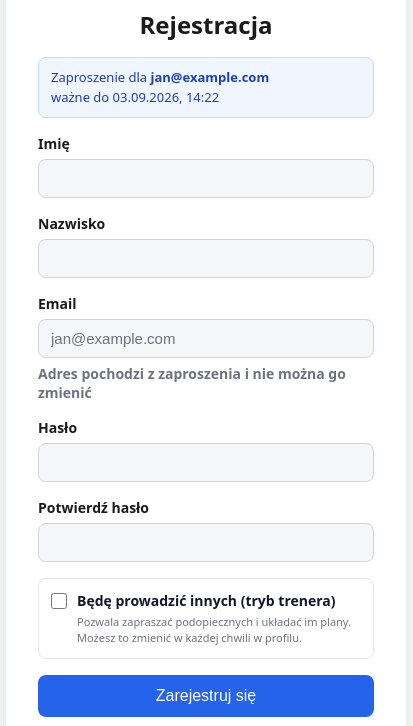
Test case: RegisterPage › walidacja › błąd pola znika, gdy użytkownik zaczyna je poprawiać
(page scrolled)
Check: the field labelled "Imię" is shown, box [38,159,374,198]
Click the button "Zarejestruj się".
click(206, 696)  # box [38,675,374,717]
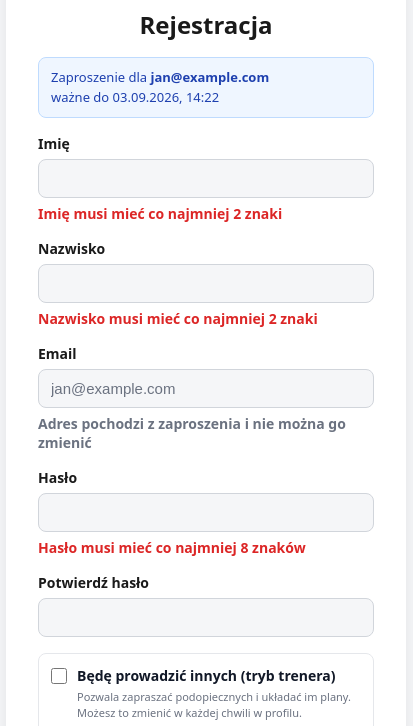
Check: the text "Imię musi mieć co najmniej 2 znaki" is shown, box [38,204,282,223]
Type "Ja" into the field labelled "Imię Imię musi mieć co najmniej 2 znaki".
click(206, 178); type("Ja")  # box [38,159,374,198]
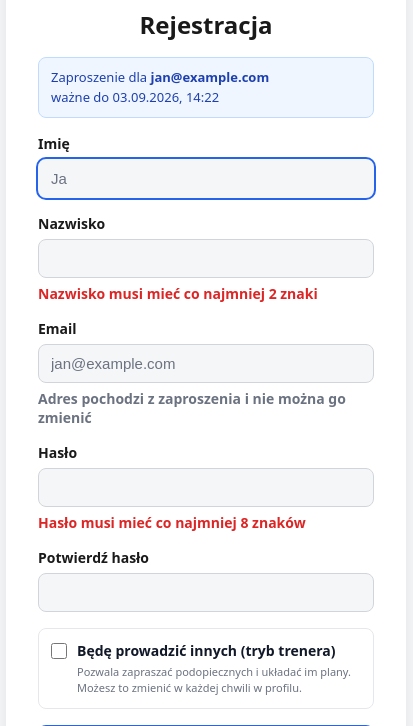
Check: the text "Imię musi mieć co najmniej 2 znaki" is gone
